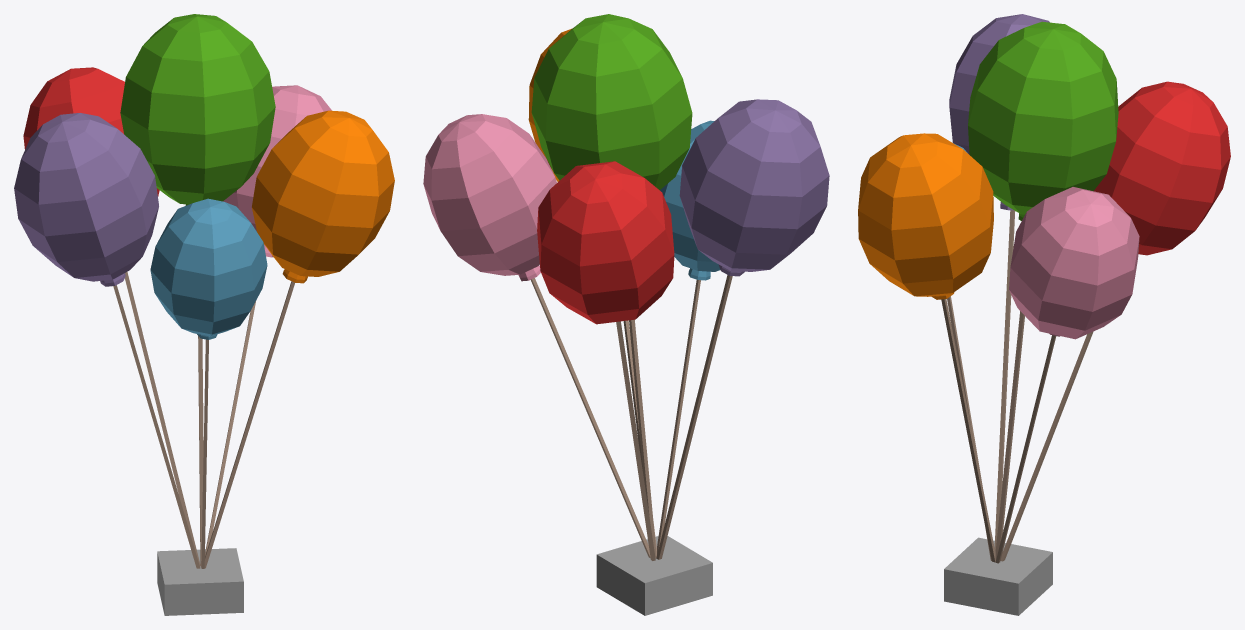
Rendered from Isl_8_Air_Balloons_1.fbx.
3 views of the same model, side by side, from view 1: azimuth 30°, elevation 25°; view 2: azimuth 150°, elevation 25°; view 3: azimuth 270°, elevation 25° (orthographic). The views are drawn at different scales.
Parts seen in each view (by area): view 1: Isl_8_Air_Balloons_1; view 2: Isl_8_Air_Balloons_1; view 3: Isl_8_Air_Balloons_1.
Boxes of the visible parts, <box> form: Isl_8_Air_Balloons_1: <box>14,14,394,615</box>; Isl_8_Air_Balloons_1: <box>423,14,829,615</box>; Isl_8_Air_Balloons_1: <box>858,14,1230,615</box>.
Size of the model in its own units: 171 by 158 by 269.
1 material, 1 textured.
